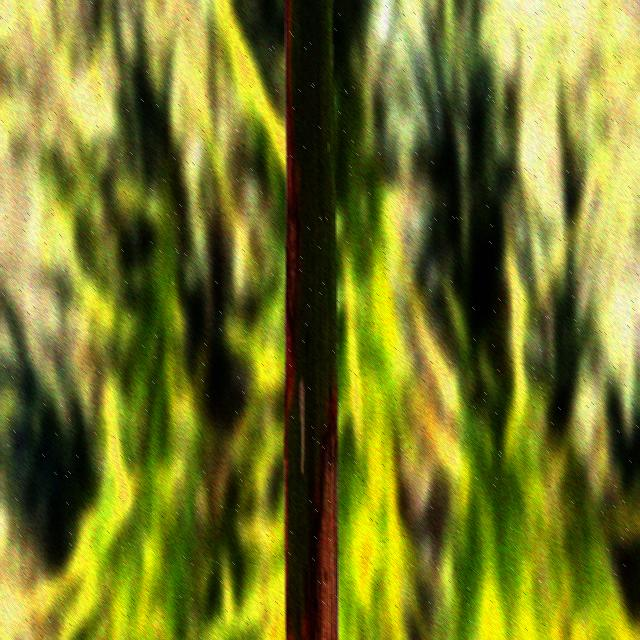BLB: (285, 2, 338, 640)
